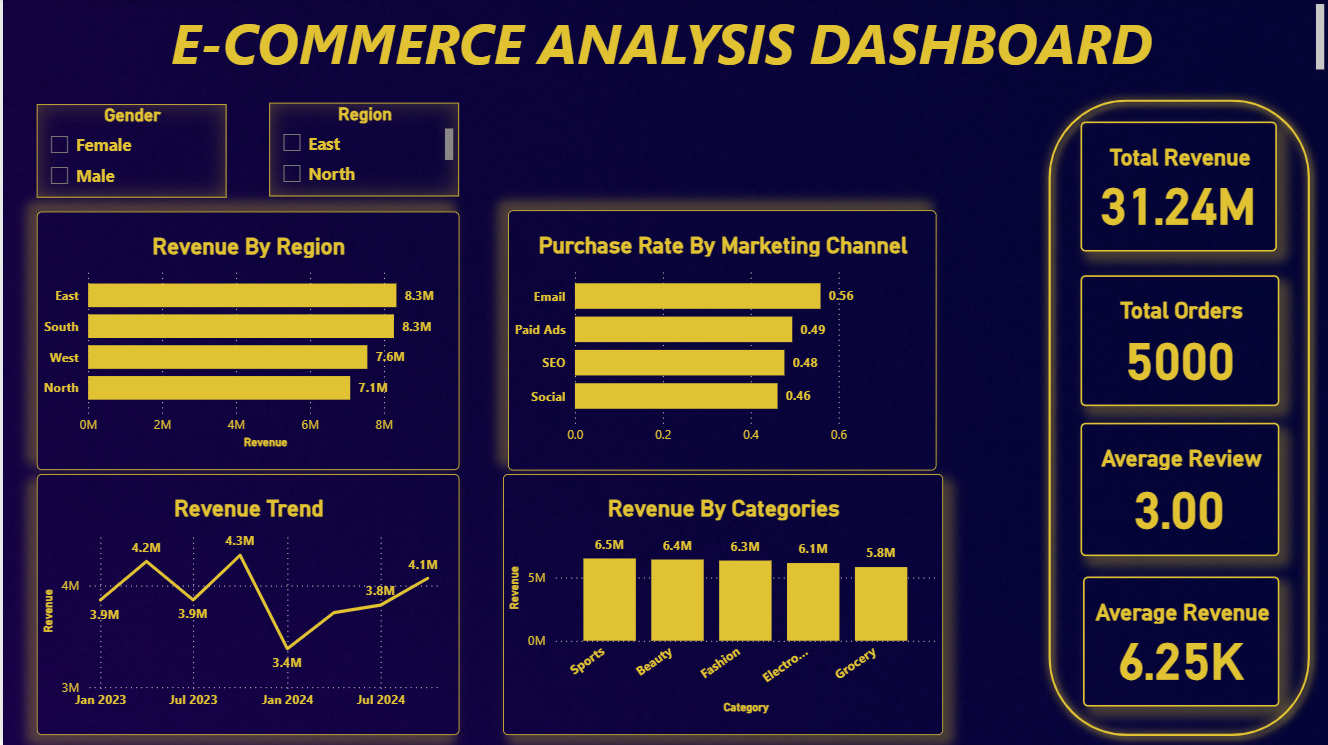

This screenshot's page, from the dashboard's own definition file:
{"tool":"powerbi","page":{"name":"Page 1","canvas":[1280,720],"ordinal":0},"visuals":[{"type":"card","title":"Total Revenue","fields":{"Values":["Sum(ecommerce.total_revenue)"]},"box":[1040,118.2,189.4,125.5],"z":0},{"type":"card","title":"Average Review","fields":{"Values":["Avg(ecommerce.review_score)"]},"box":[1040,409,191.8,129.1],"z":1},{"type":"card","title":"Average Revenue","fields":{"Values":["Avg(ecommerce.total_revenue)"]},"box":[1042.4,557.4,189.4,125.5],"z":2},{"type":"card","title":"Total Orders","fields":{"Values":["CountNonNull(ecommerce.order_id)"]},"box":[1040,266.6,191.8,126.7],"z":3},{"type":"lineChart","title":"Revenue Trend","fields":{"Y":["Sum(ecommerce.total_revenue)"],"Category":["ecommerce.order_date.Variation.Date Hierarchy.Year","ecommerce.order_date.Variation.Date Hierarchy.Quarter"]},"box":[32.6,458.4,407.8,252.1],"z":4},{"type":"clusteredColumnChart","title":"Revenue By Categories","fields":{"Y":["Sum(ecommerce.total_revenue)"],"Category":["ecommerce.category"]},"box":[482.6,458.4,424.7,252.1],"z":5},{"type":"clusteredBarChart","title":"Revenue By Region","fields":{"Category":["ecommerce.region"],"Y":["Sum(ecommerce.total_revenue)"]},"box":[32.6,205.1,407.8,249.7],"z":6},{"type":"shape","box":[1000.1,88.1,270.2,632.2],"z":8},{"type":"textbox","box":[0,0,1280,77.2],"z":9},{"type":"clusteredBarChart","title":"Purchase Rate By Marketing Channel","fields":{"Category":["ecommerce.marketing_channel"],"Y":["ecommerce.purchase rate"]},"box":[487.4,203.9,413.8,250.9],"z":10},{"type":"slicer","title":"Gender","fields":{"Values":["ecommerce.gender"]},"box":[32.6,101.3,183.4,90.5],"z":11},{"type":"slicer","title":"Region","fields":{"Values":["ecommerce.region"]},"box":[257,100.1,183.4,90.5],"z":12}]}

Visuals, with their boxes in screenshot pixels (x1, y1, x2, y2), scaled from the page's 1280x720 canvas onto the 1328x745 screenshot:
"Total Revenue" card: region(1079, 122, 1276, 252)
"Average Review" card: region(1079, 423, 1278, 557)
"Average Revenue" card: region(1081, 577, 1278, 707)
"Total Orders" card: region(1079, 276, 1278, 407)
"Revenue Trend" lineChart: region(34, 474, 457, 735)
"Revenue By Categories" clusteredColumnChart: region(501, 474, 941, 735)
"Revenue By Region" clusteredBarChart: region(34, 212, 457, 471)
shape: region(1038, 91, 1318, 744)
textbox: region(0, 0, 1327, 80)
"Purchase Rate By Marketing Channel" clusteredBarChart: region(506, 211, 935, 471)
"Gender" slicer: region(34, 105, 224, 198)
"Region" slicer: region(267, 104, 457, 197)
